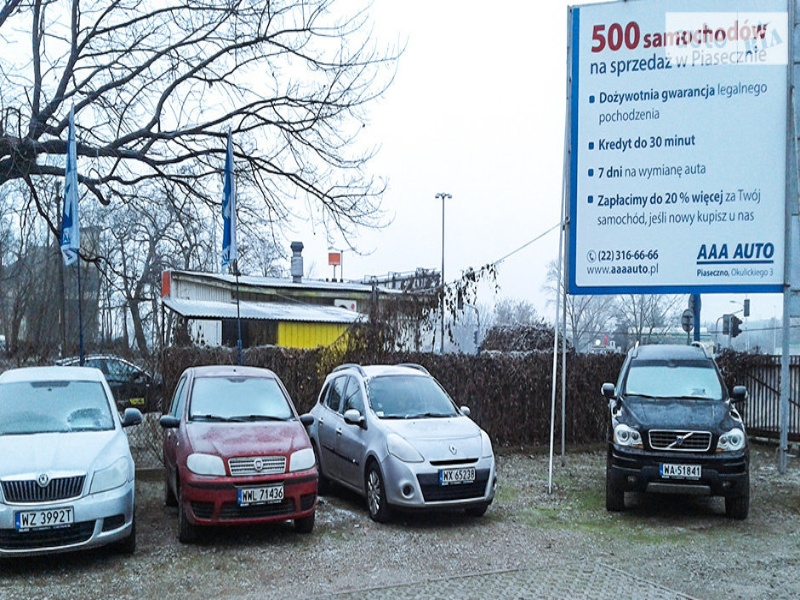car: (307, 363, 497, 522), (159, 365, 319, 542), (1, 366, 144, 564), (600, 341, 748, 516), (54, 356, 166, 404)
plate: (15, 507, 73, 532), (239, 485, 283, 508), (438, 467, 476, 484), (660, 464, 702, 477)
